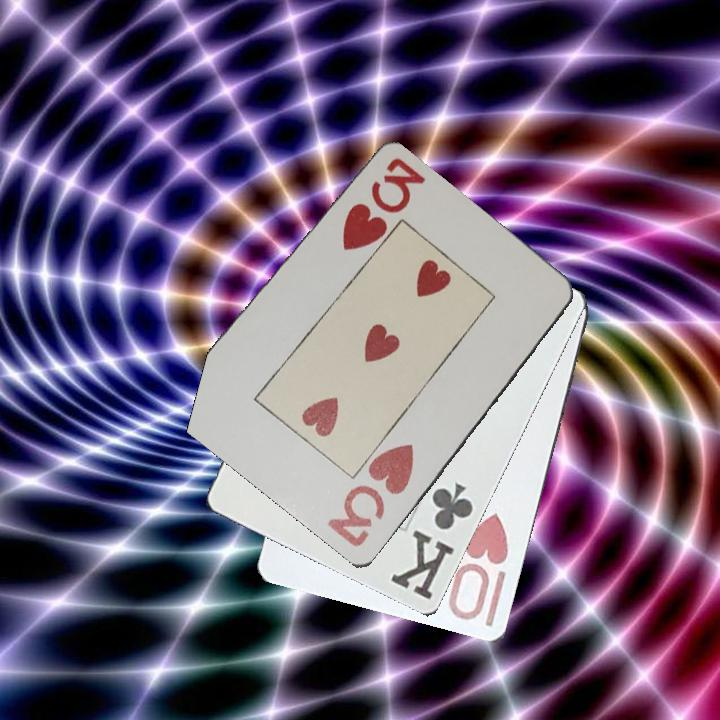3h: (323, 439, 417, 551), (338, 154, 426, 254)
Kc: (387, 480, 477, 603)
Th: (446, 509, 512, 624)
